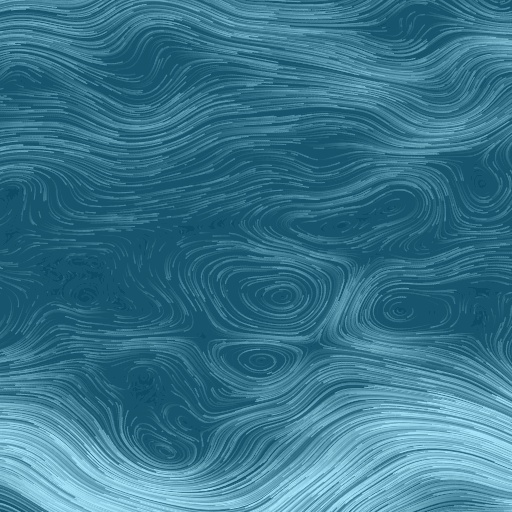eddy: (215, 254, 331, 334), (297, 180, 425, 252), (362, 282, 459, 335), (127, 419, 192, 469), (222, 342, 300, 383)
